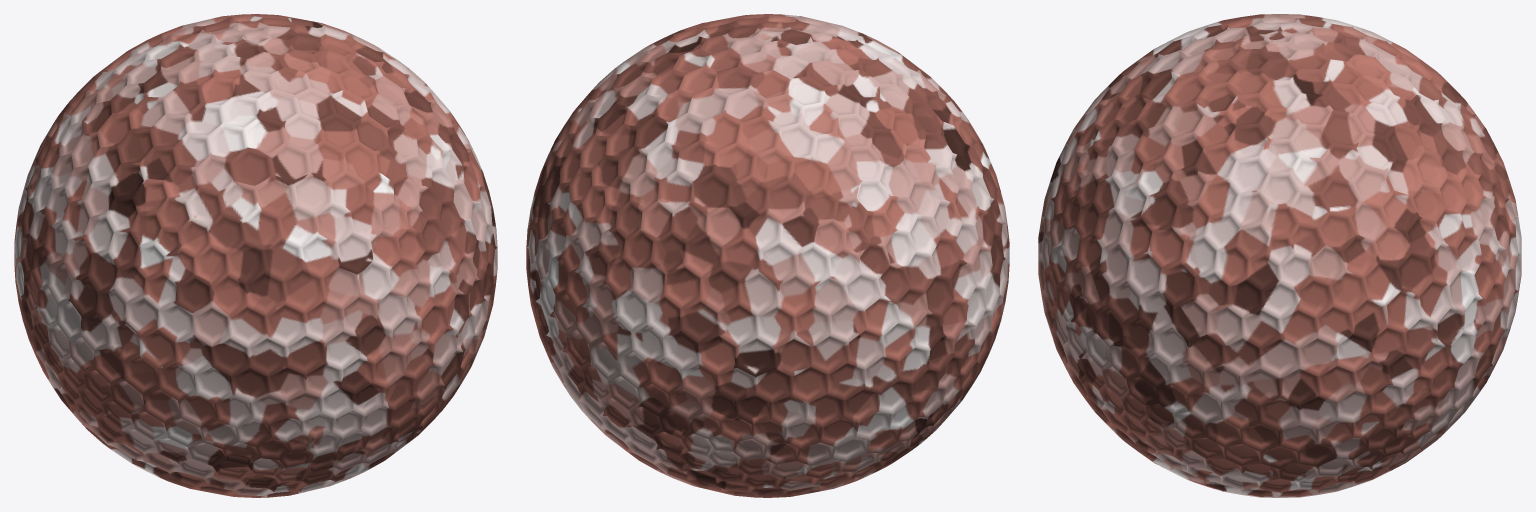
Rendered from BrownCamoBall.fbx.
The picture shows the model from 3 angles, left to right: view 1: azimuth 30°, elevation 25°; view 2: azimuth 150°, elevation 25°; view 3: azimuth 270°, elevation 25°; orthographic projection.
Visible parts, largest first — view 1: GolfBall; view 2: GolfBall; view 3: GolfBall.
Boxes of the visible parts, left/top/right/bottom form: GolfBall: left=14, top=14, right=497, bottom=497; GolfBall: left=526, top=14, right=1009, bottom=497; GolfBall: left=1038, top=14, right=1521, bottom=497.
Size of the model in its own units: 37.86 by 38 by 37.87.
Materials: 1 (1 with a texture image).
